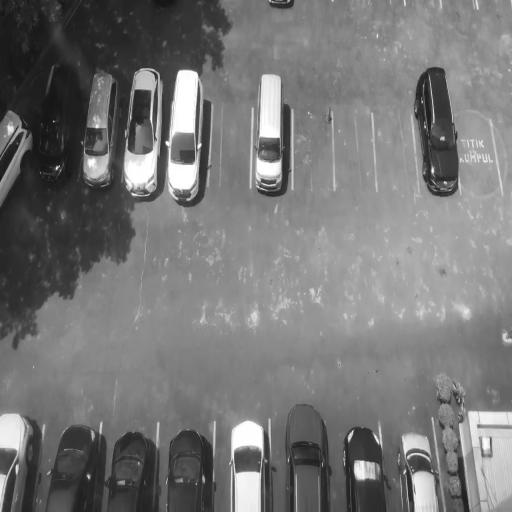Car: (411, 71, 461, 202), (166, 58, 211, 203), (39, 417, 107, 511), (285, 392, 336, 512), (123, 62, 162, 210), (101, 414, 158, 512), (254, 63, 293, 205), (39, 50, 76, 185), (223, 417, 275, 511), (81, 60, 118, 192), (341, 414, 388, 512), (0, 408, 43, 512), (397, 418, 445, 510), (165, 425, 215, 512), (265, 0, 293, 17)
Space Available: (373, 88, 417, 204), (335, 90, 374, 210), (459, 89, 501, 198), (293, 96, 333, 198), (214, 95, 251, 194)
